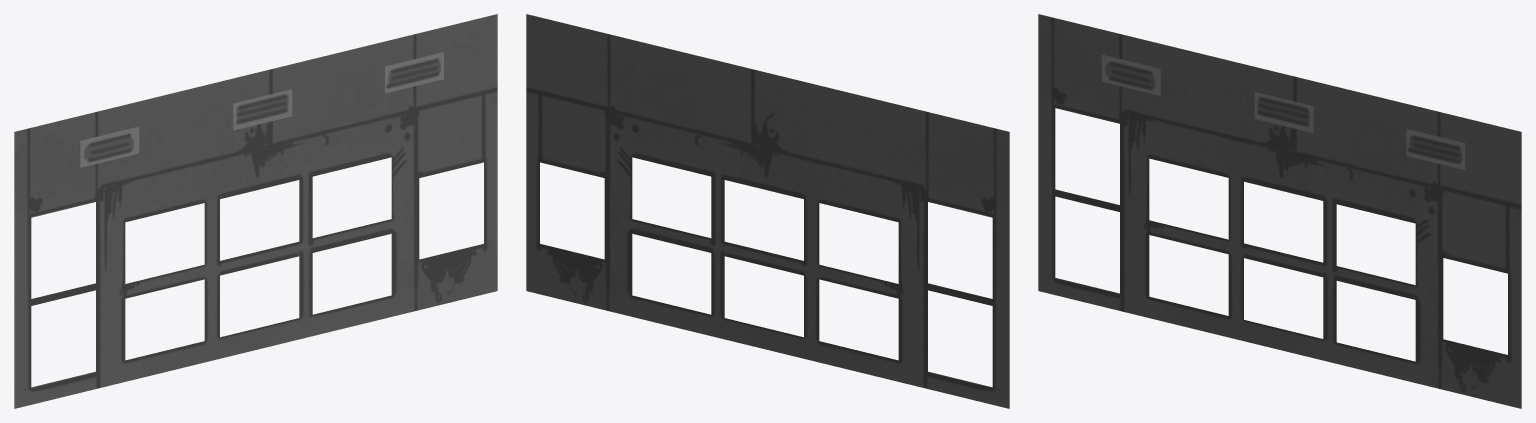
File: zidFioke.glb
The picture shows the model from 3 angles, left to right: view 1: azimuth 30°, elevation 25°; view 2: azimuth 150°, elevation 25°; view 3: azimuth 330°, elevation 25°; orthographic projection.
Parts seen in each view (by area): view 1: zid; view 2: zid; view 3: zid.
Part boxes in pixels (x1=…): zid: x1=14, y1=14, x2=497, y2=408; zid: x1=526, y1=14, x2=1009, y2=408; zid: x1=1038, y1=14, x2=1521, y2=408.
Bounding box in the file's own units: 21.23 × 11.63 × 0.1058.
Materials: 1 (1 with a texture image).
